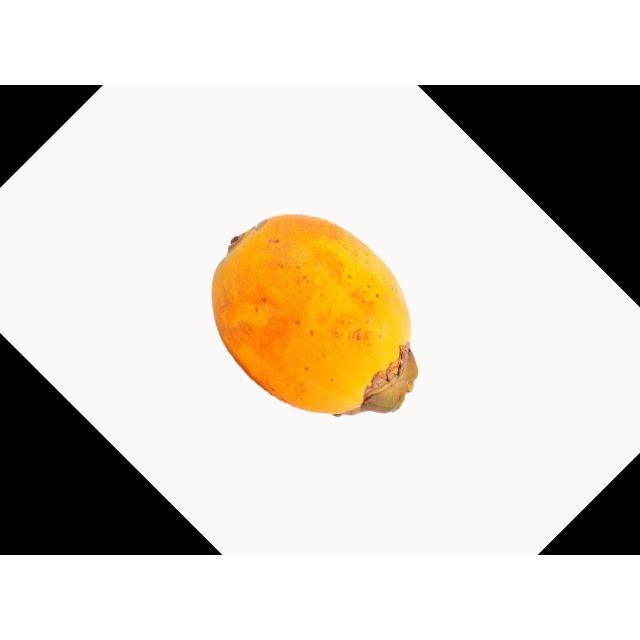good: (209, 214, 419, 418)
